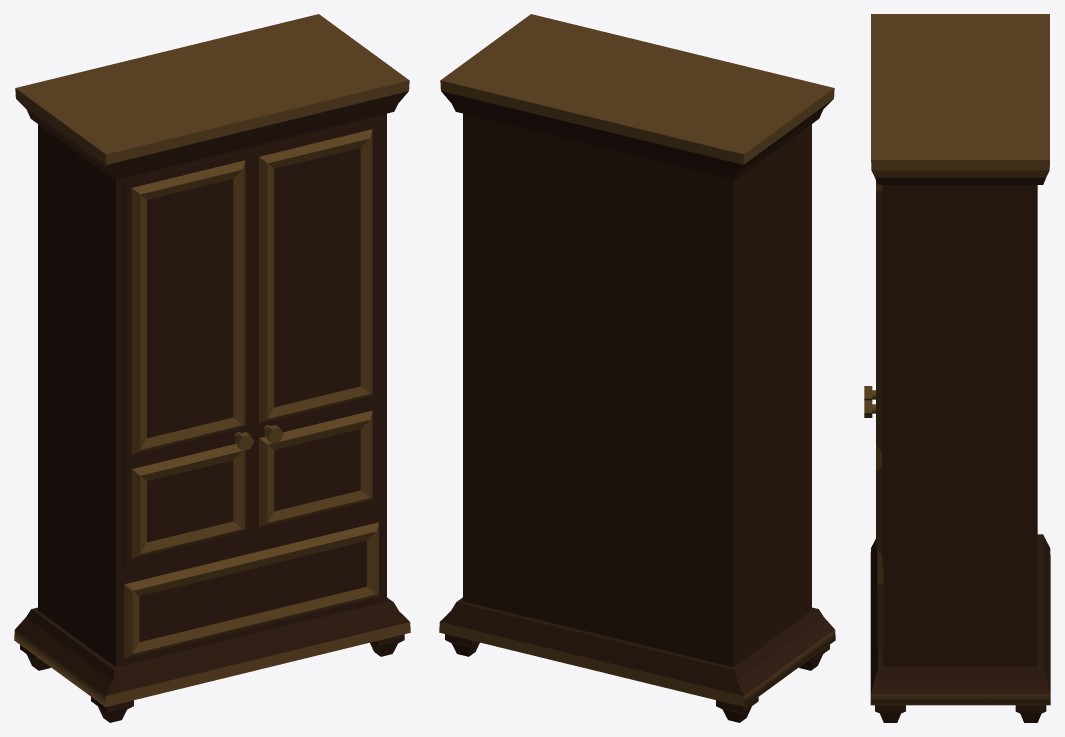
File: SM_Wardrobe_01.fbx
3 views of the same model, side by side, from view 1: azimuth 30°, elevation 25°; view 2: azimuth 150°, elevation 25°; view 3: azimuth 270°, elevation 25° (orthographic).
Parts seen in each view (by area): view 1: SM_Wardrobe_01, Door_01, Door_02; view 2: SM_Wardrobe_01; view 3: SM_Wardrobe_01, Door_02.
Part boxes in pixels (left/top/right/bottom): SM_Wardrobe_01: left=14, top=14, right=410, bottom=722; Door_01: left=124, top=151, right=253, bottom=567; Door_02: left=252, top=120, right=379, bottom=536; SM_Wardrobe_01: left=439, top=14, right=835, bottom=722; SM_Wardrobe_01: left=870, top=14, right=1050, bottom=722; Door_02: left=864, top=181, right=883, bottom=565.
Size of the model in its own units: 44.37 by 79.92 by 23.76.
